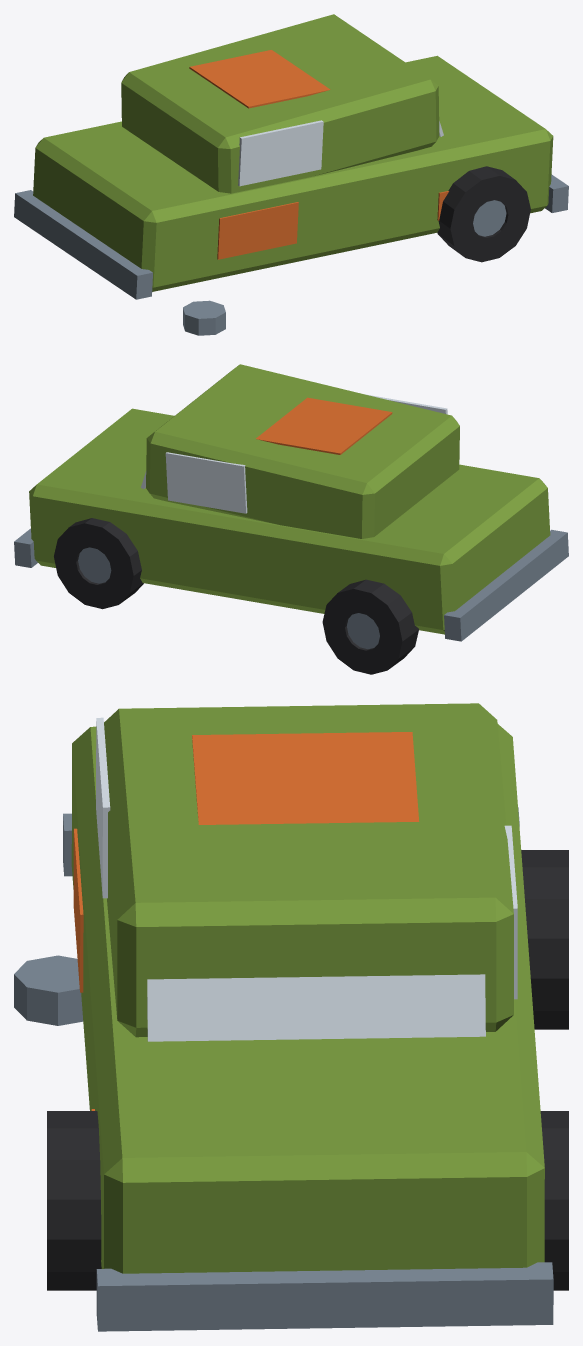
Rendered from prop_car_wreck.fbx.
The picture shows the model from 3 angles, top to bottom: view 1: azimuth 30°, elevation 25°; view 2: azimuth 150°, elevation 25°; view 3: azimuth 270°, elevation 25°; orthographic projection. The views are drawn at different scales.
Visible parts, largest first — view 1: prop_car_wreck; view 2: prop_car_wreck; view 3: prop_car_wreck.
Part boxes in pixels (x1,y1,x2,y2): prop_car_wreck: [14, 14, 568, 335]; prop_car_wreck: [14, 364, 568, 674]; prop_car_wreck: [14, 703, 568, 1331].
Bounding box in the file's own units: 13.93 × 5.24 × 7.55.
